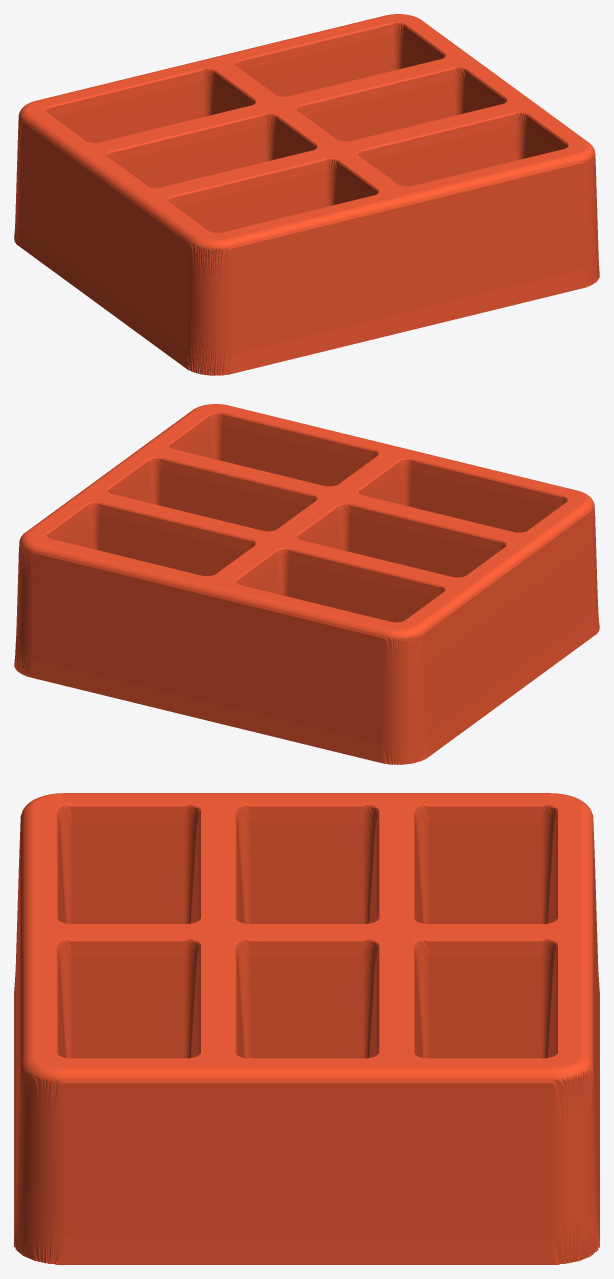
File: mold.glb
3 views of the same model, one above another, from view 1: azimuth 30°, elevation 25°; view 2: azimuth 150°, elevation 25°; view 3: azimuth 270°, elevation 25° (orthographic). The views are drawn at different scales.
Parts seen in each view (by area): view 1: geometry_0; view 2: geometry_0; view 3: geometry_0.
Part boxes in pixels (bbox=[...]): geometry_0: bbox=[14, 14, 599, 375]; geometry_0: bbox=[14, 404, 599, 764]; geometry_0: bbox=[14, 793, 599, 1264].
Bounding box in the file's own units: 0.1246 × 0.0377 × 0.1063.
